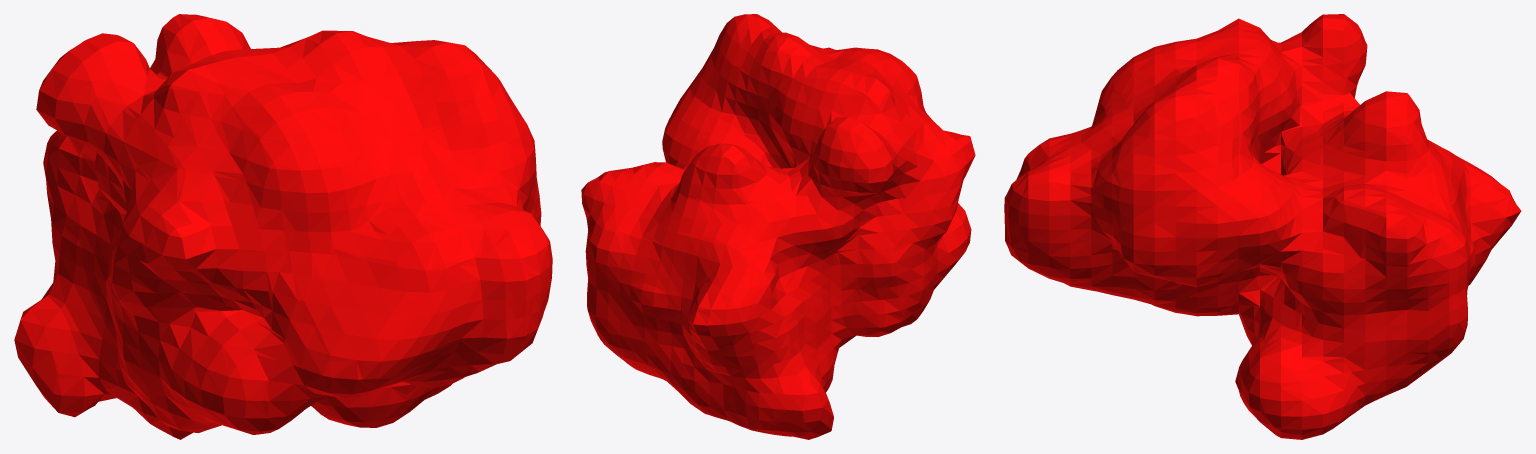
File: ndh_coarse.dae
3 views of the same model, side by side, from view 1: azimuth 30°, elevation 25°; view 2: azimuth 150°, elevation 25°; view 3: azimuth 270°, elevation 25° (orthographic). The views are drawn at different scales.
Parts seen in each view (by area): view 1: ndh; view 2: ndh; view 3: ndh.
Part boxes in pixels (bbox=[...]): ndh: bbox=[14, 14, 552, 439]; ndh: bbox=[581, 14, 975, 439]; ndh: bbox=[1004, 14, 1521, 439].
Size of the model in its own units: 53.67 by 56.49 by 77.92.
